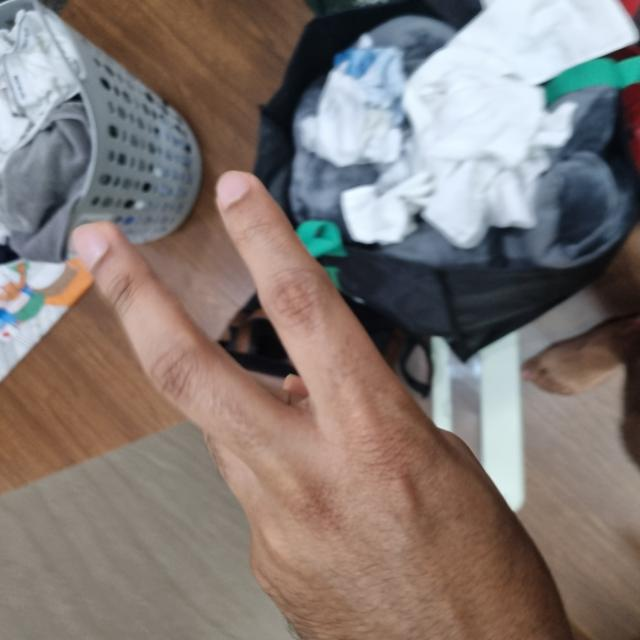Scissors: (0, 80, 469, 554)
